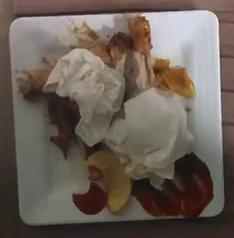chicken: (73, 15, 193, 98)
fries: (87, 150, 130, 212)
